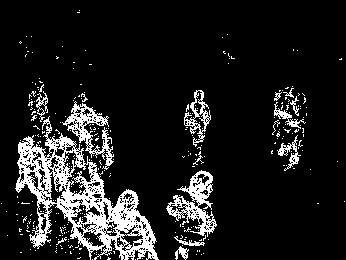person: (170, 168, 219, 254), (17, 139, 51, 242), (108, 186, 155, 260), (61, 176, 102, 253), (186, 88, 212, 168), (274, 86, 290, 151), (288, 95, 301, 169)
